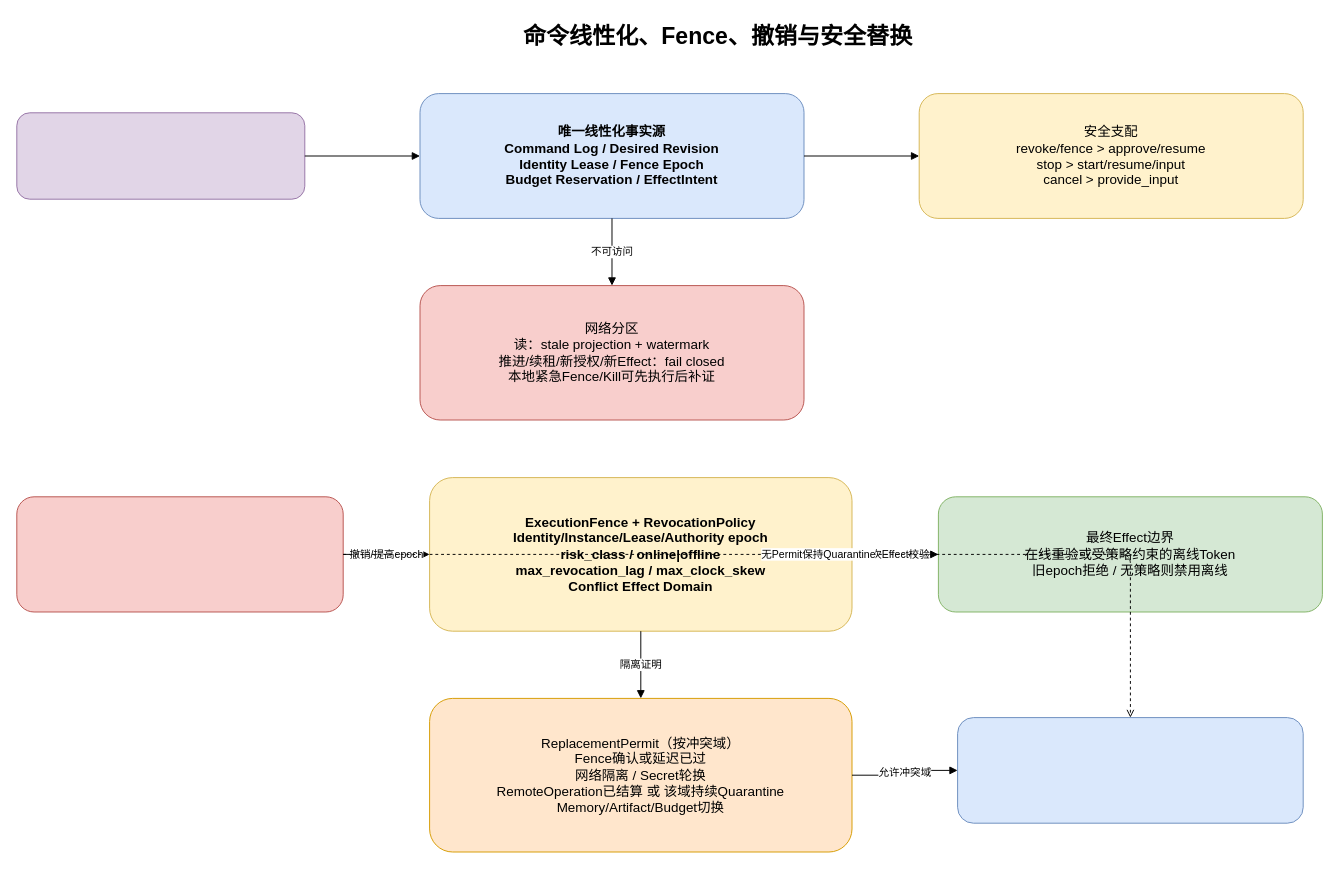
This 1339x869 diagram has some shape labels left out. Here are the shapes that lost their labels. From the top down, the box of each, then its label:
(16, 112, 305, 199): Human / Management / Policy 无隐含身份优先级
(16, 496, 343, 612): 旧Instance / 旧Lease Lost 或待撤销 可能仍有Token/Secret/RemoteOperation
(957, 717, 1303, 823): 新Instance 先Provisioning + Quarantined 取得Permit后才获得冲突能力
